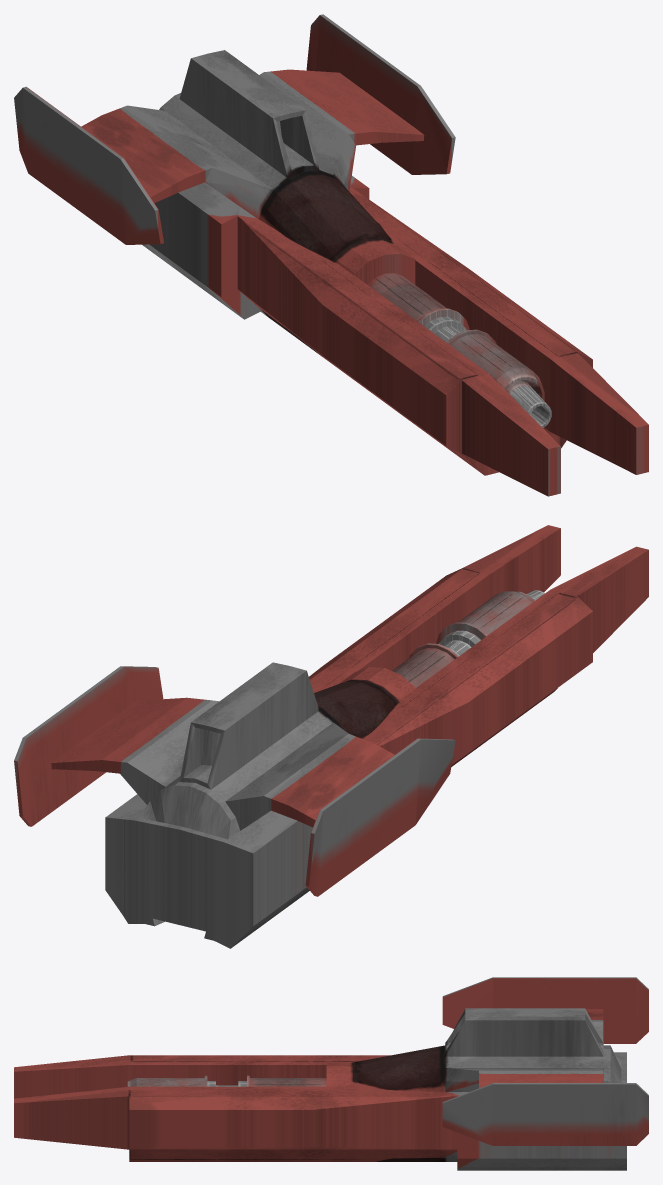
The model's file is dread.FBX.
3 renders of one model, top to bottom at view 1: azimuth 30°, elevation 25°; view 2: azimuth 150°, elevation 25°; view 3: azimuth 270°, elevation 25°, orthographic. The views are drawn at different scales.
Parts seen in each view (by area): view 1: dread:Box001; view 2: dread:Box001; view 3: dread:Box001.
Part boxes in pixels (left/top/right/bottom): dread:Box001: left=14, top=14, right=648, bottom=496; dread:Box001: left=14, top=525, right=648, bottom=948; dread:Box001: left=14, top=977, right=648, bottom=1170.
Size of the model in its own units: 214 by 129 by 535.
Materials: 1 (1 with a texture image).
